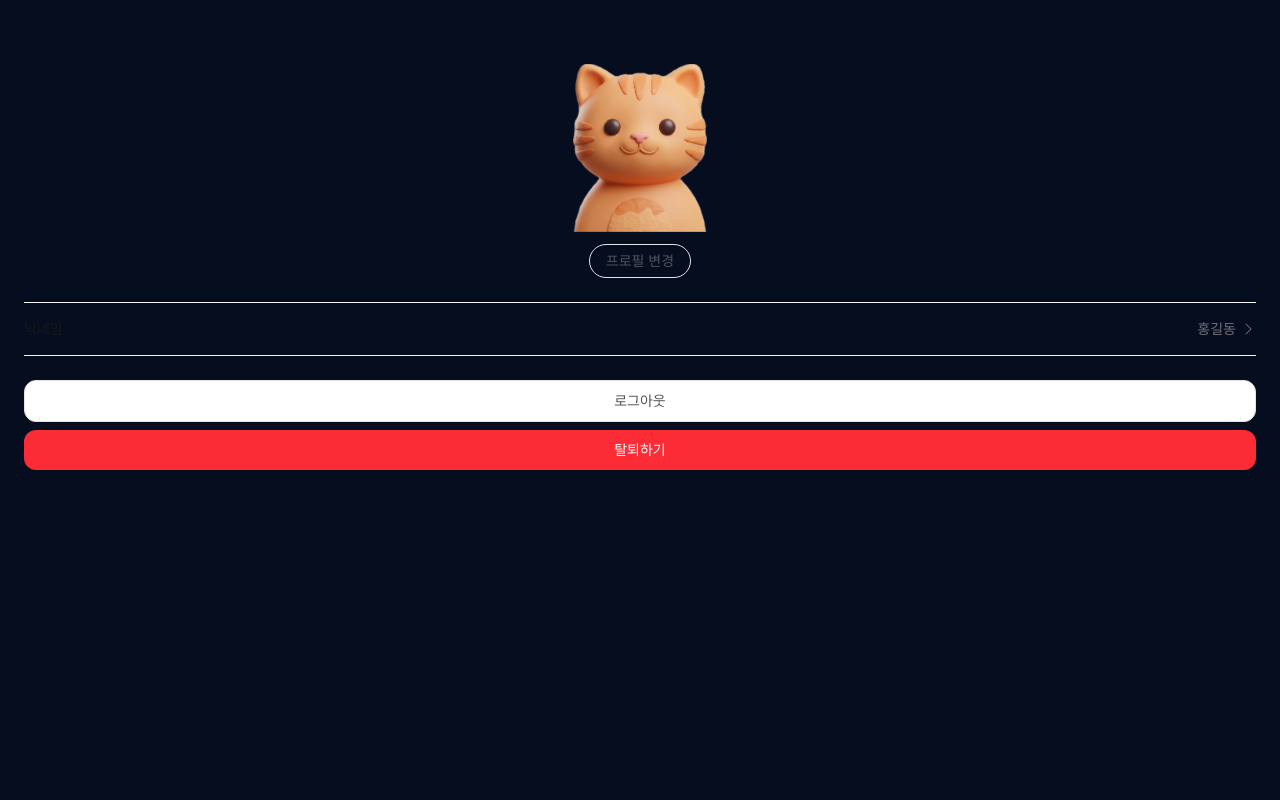
Test: ProfileSettingsView › updateAvatar가 pending인 동안 '변경 중'과 로딩 스피너가 표시된다
Click the button "프로필 변경" at (640, 261), box left=589, top=244, right=691, bottom=278
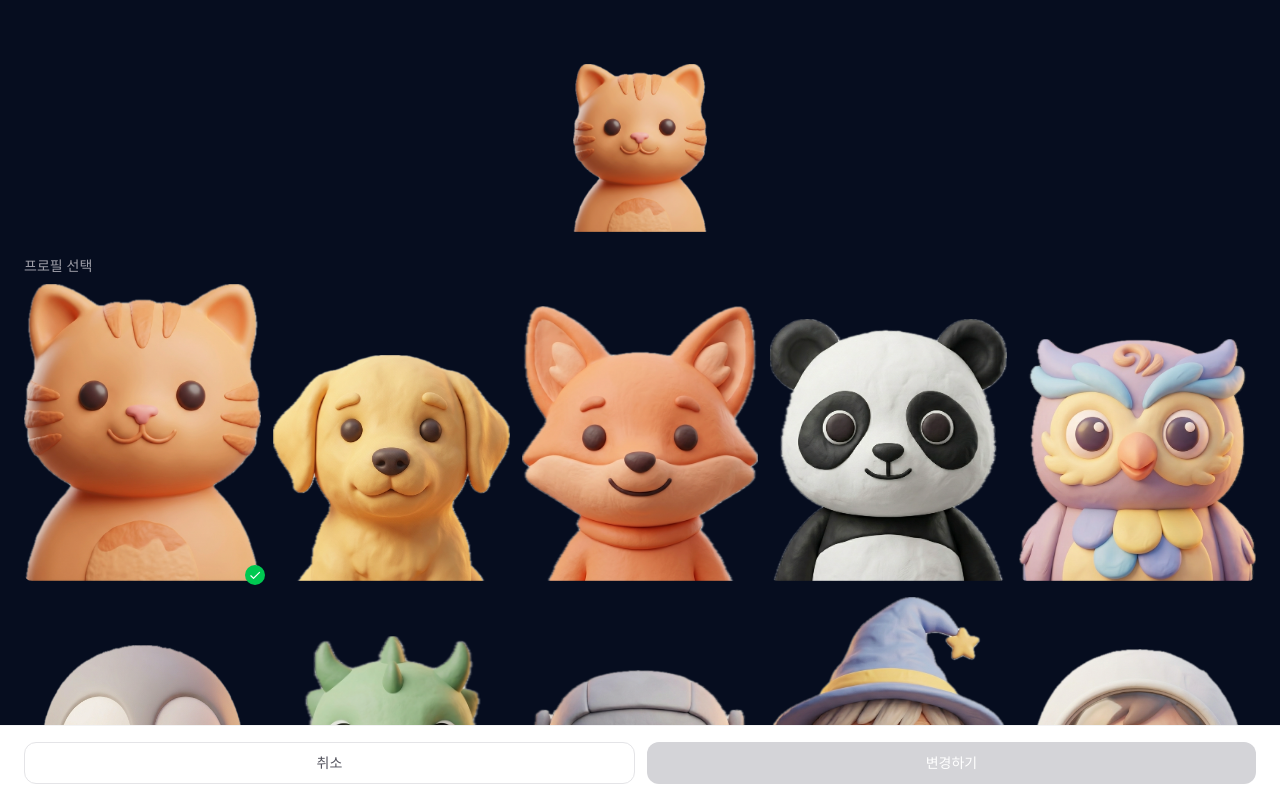
Click the button named "강아지 아바타로 변경" at (391, 468), box left=273, top=355, right=510, bottom=581
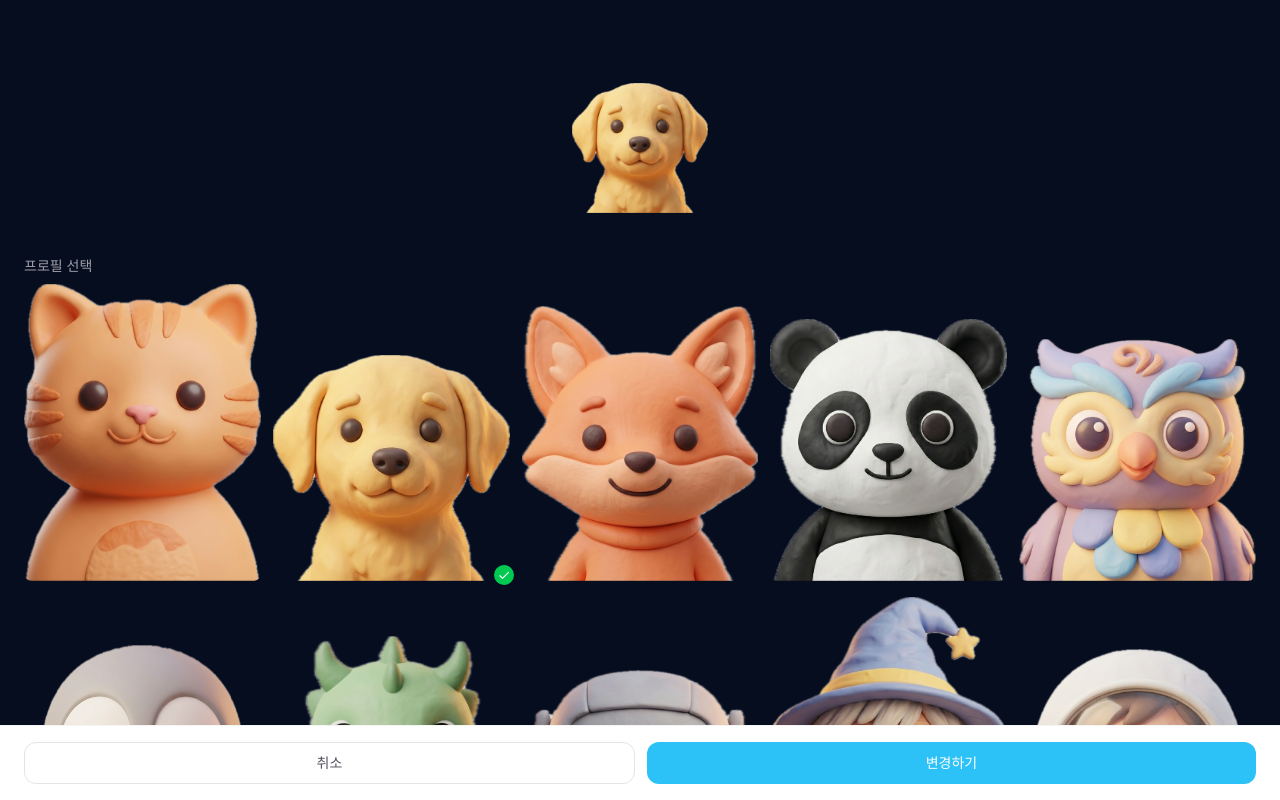
Click the button "변경하기" at (952, 763), box left=647, top=742, right=1256, bottom=784
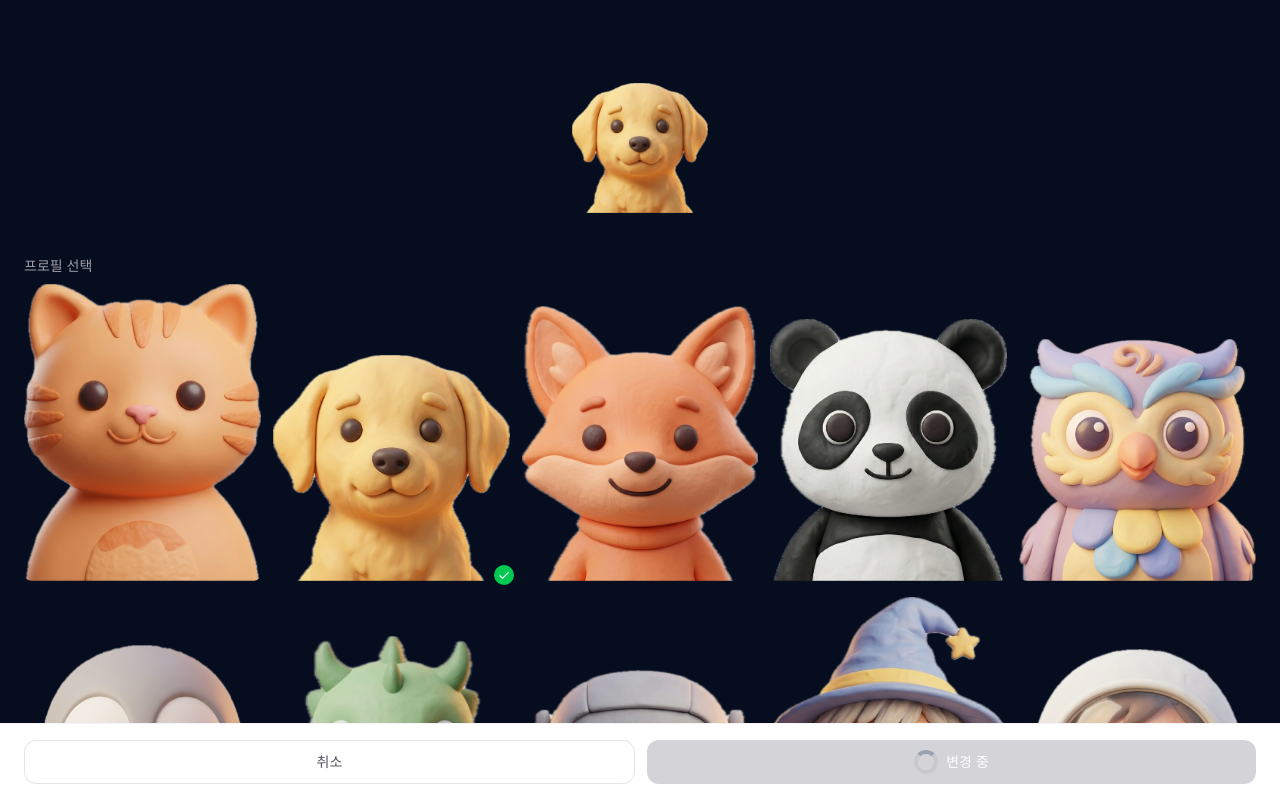
Now the button "변경 중" is disabled, box left=647, top=740, right=1256, bottom=784
Now the message named "로딩 중" is shown, box left=914, top=750, right=938, bottom=774
